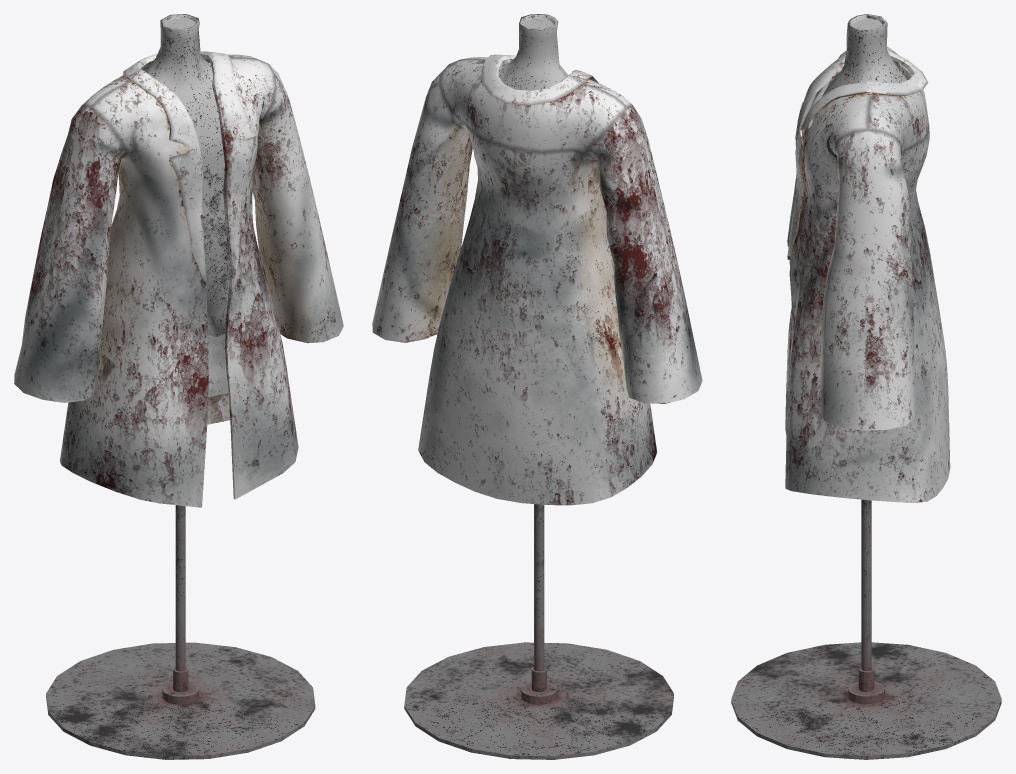
File: M_Mannequin_Og.fbx
3 renders of one model, left to right at view 1: azimuth 30°, elevation 25°; view 2: azimuth 150°, elevation 25°; view 3: azimuth 270°, elevation 25°, orthographic.
Parts seen in each view (by area): view 1: mannequin_GEO; view 2: mannequin_GEO; view 3: mannequin_GEO.
Boxes of the visible parts, left/top/right/bottom form: mannequin_GEO: left=14, top=14, right=343, bottom=759; mannequin_GEO: left=372, top=14, right=702, bottom=759; mannequin_GEO: left=731, top=14, right=1001, bottom=759.
Size of the model in its own units: 71.65 by 147 by 53.18.
2 materials, 2 textured.
